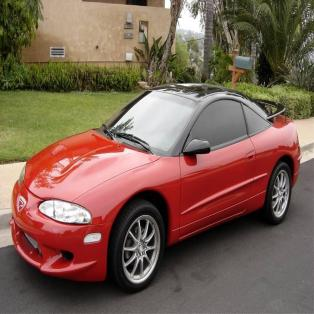Auto: (9, 82, 302, 289)
